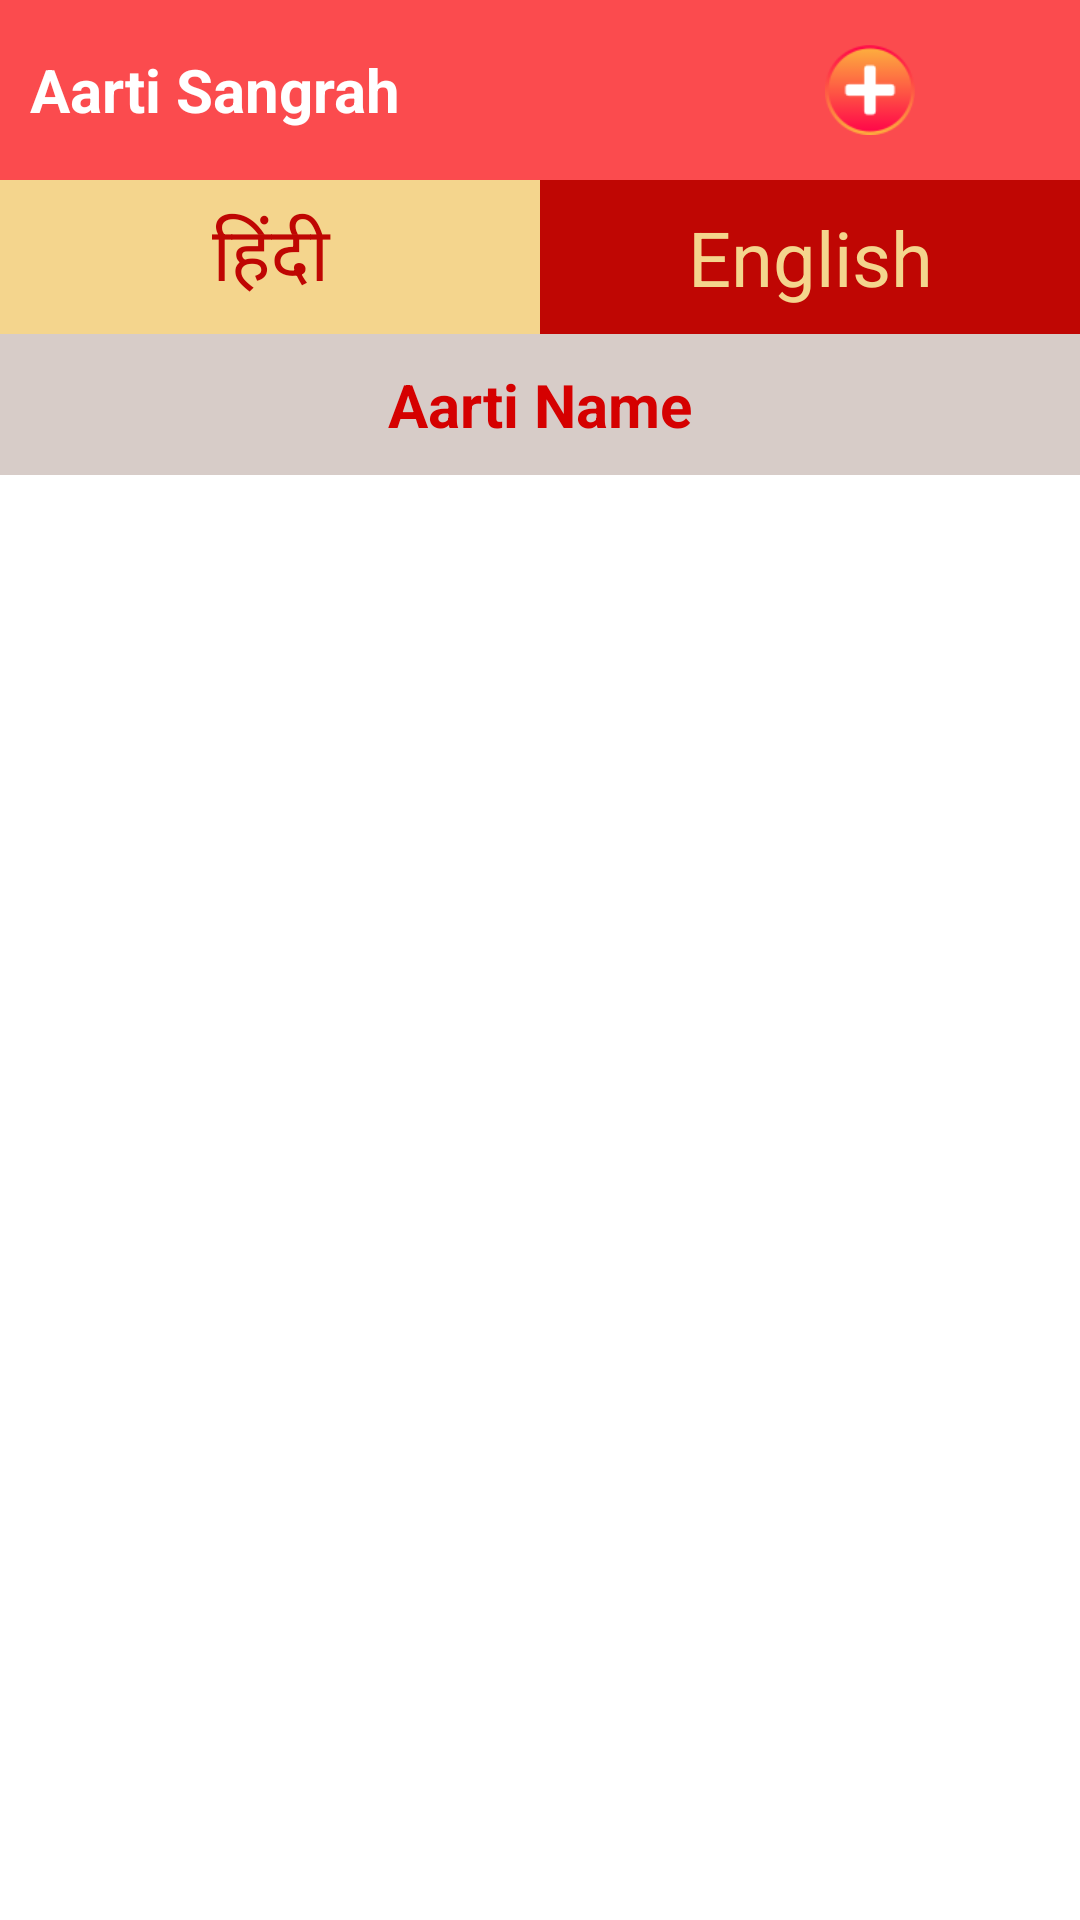

Where icons sit on this 1080×1920 app screen, as (x1, y1, x2, y2):
add: (827, 45, 913, 135)
